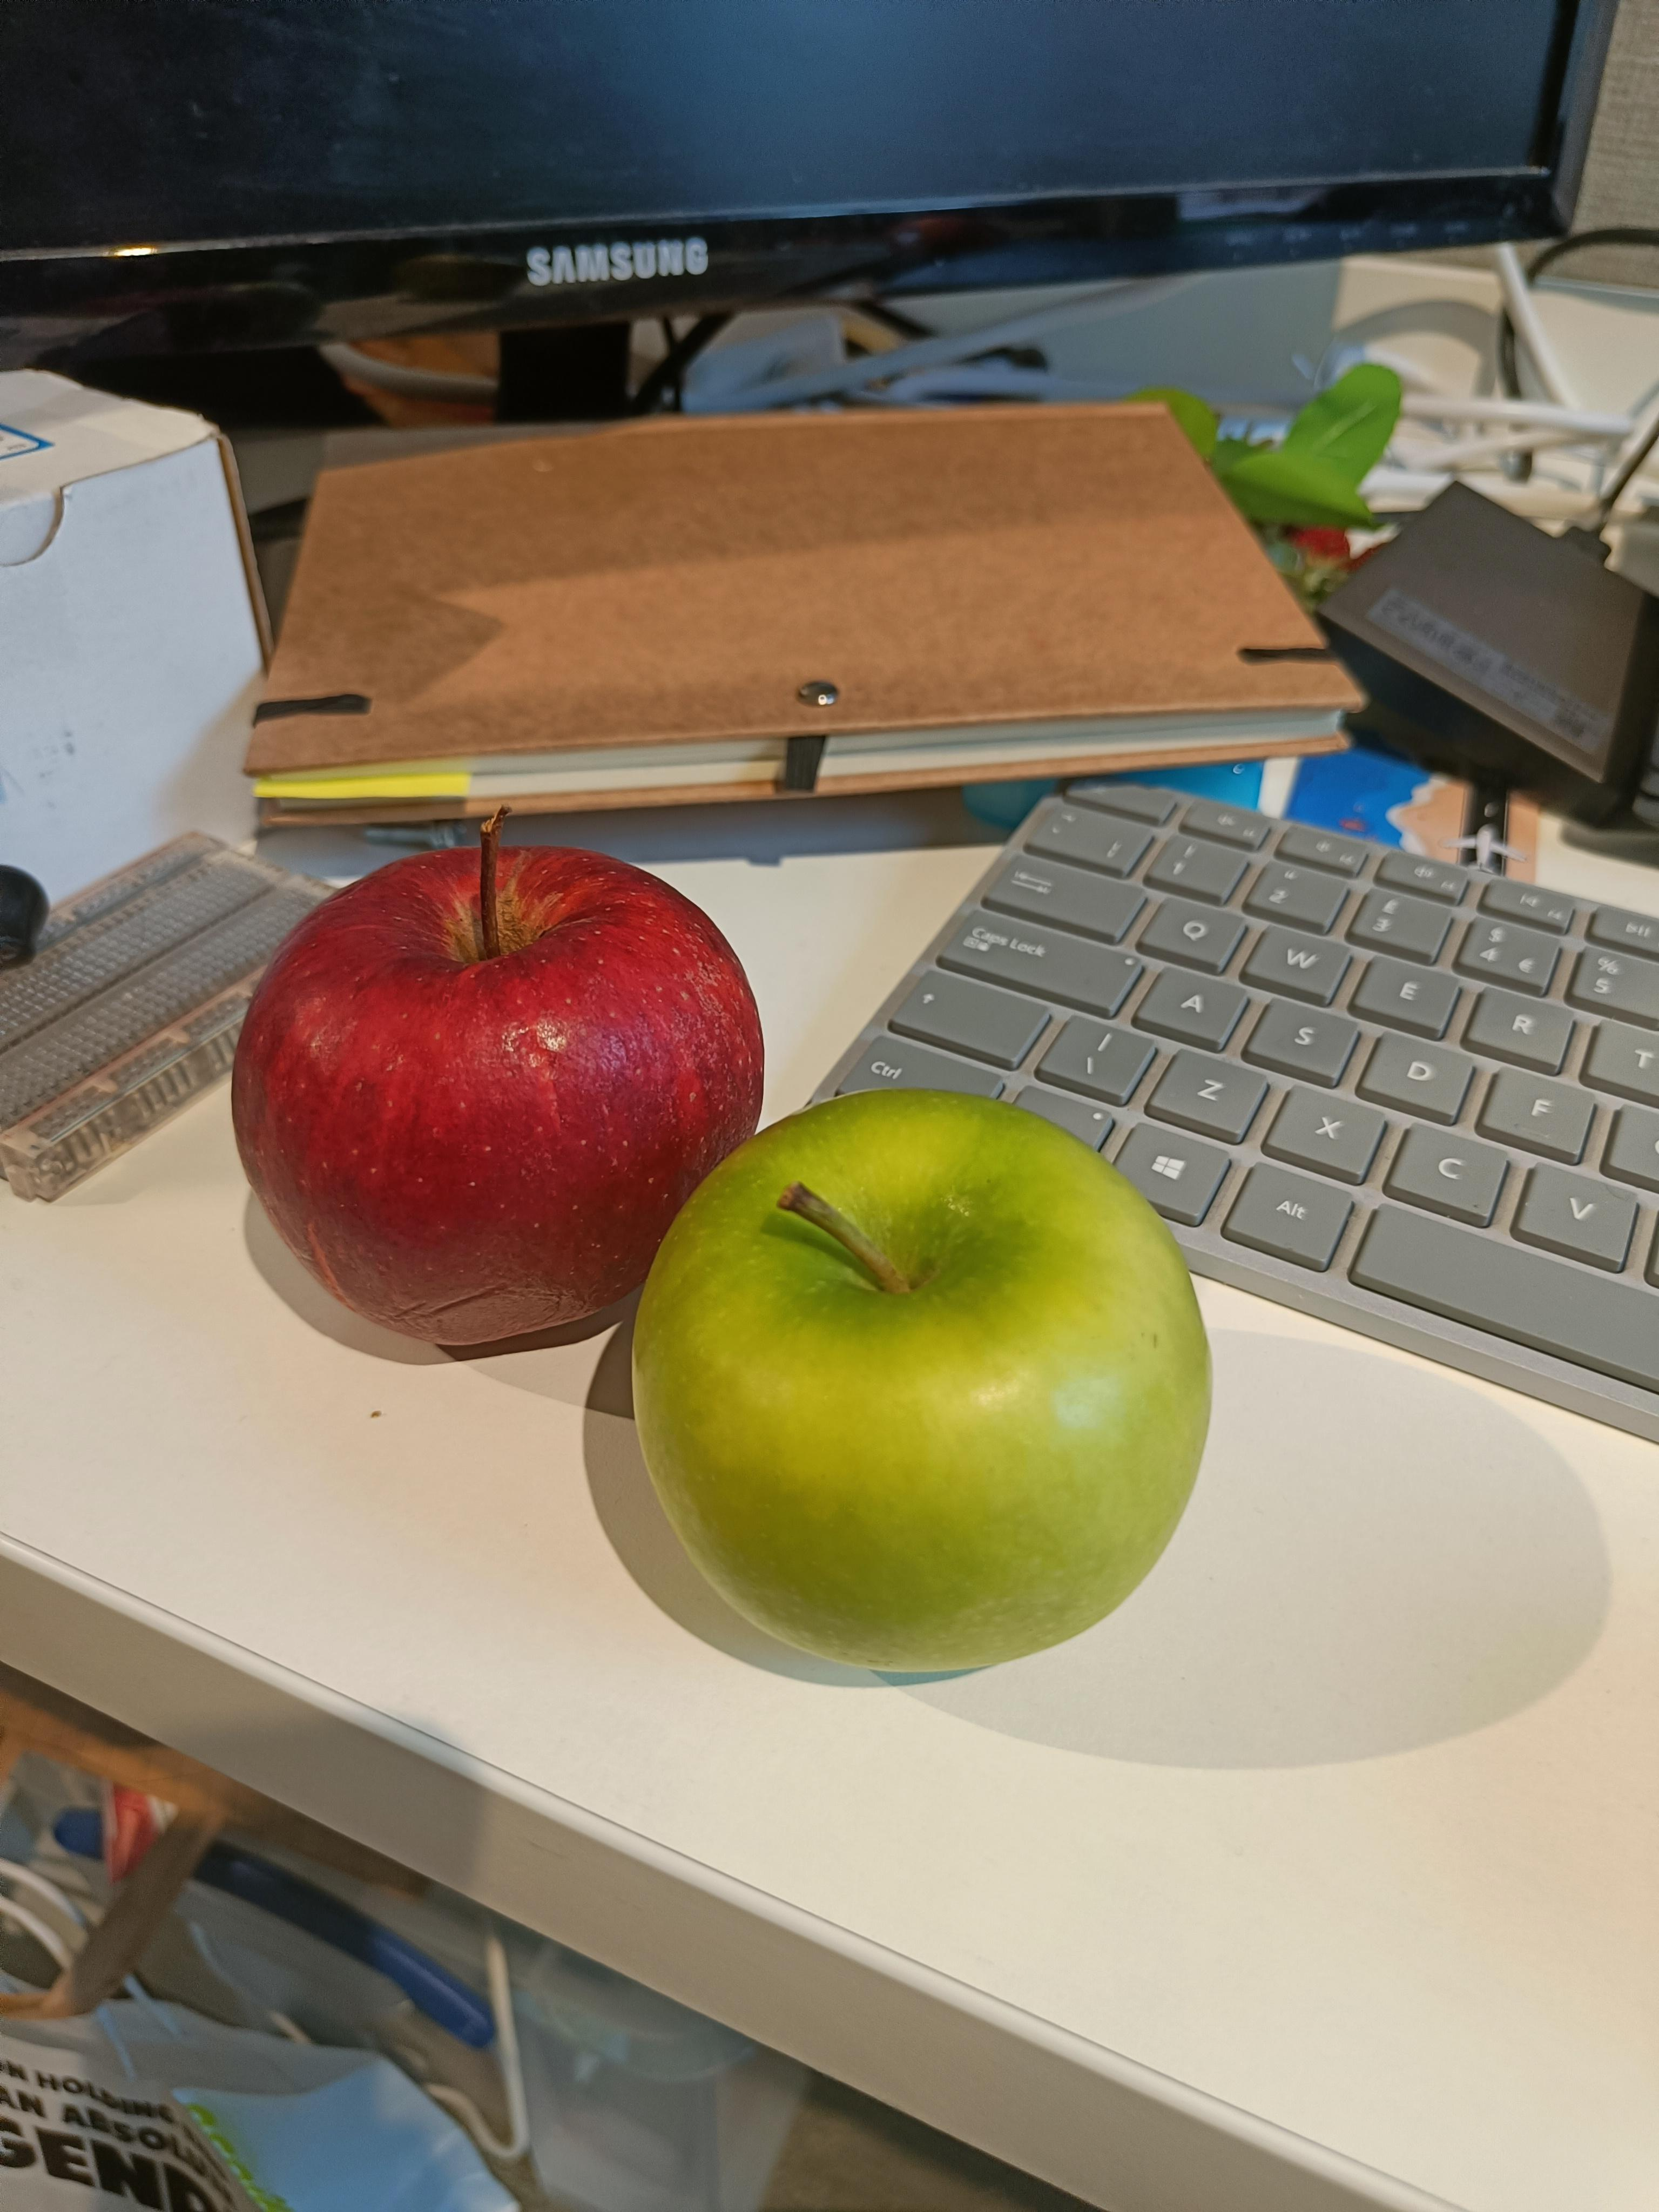Apple: (638, 1080, 1251, 1672), (249, 772, 741, 1353)
